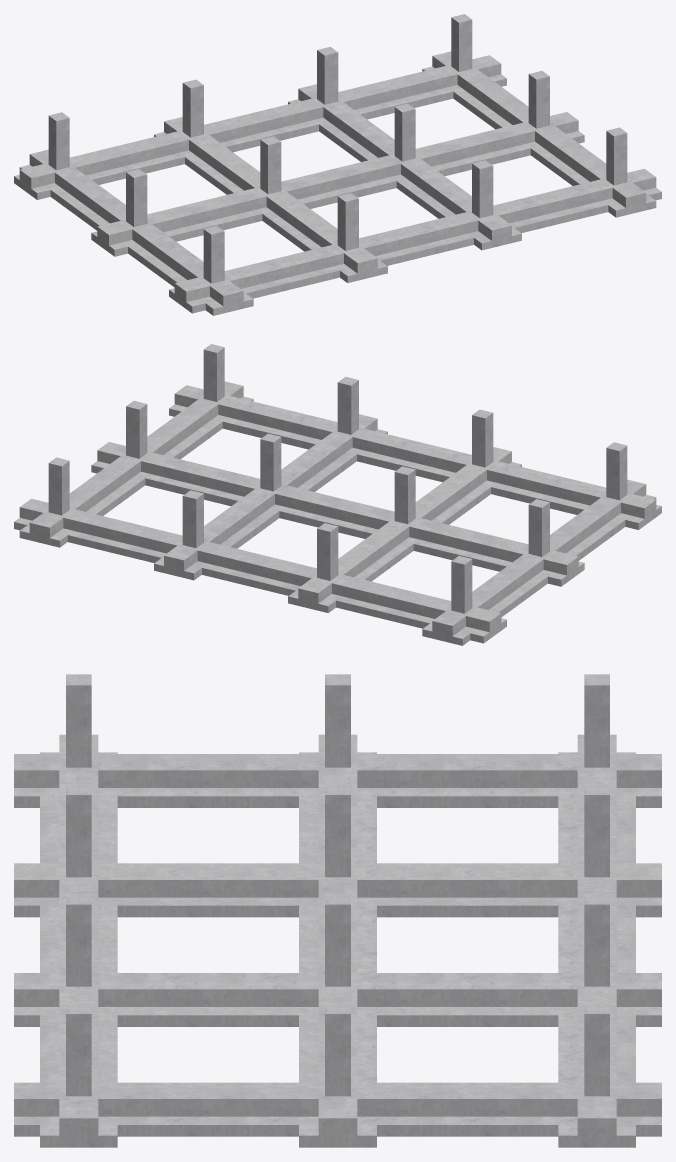
Rendered from column-cross.glb.
3 views of the same model, one above another, from view 1: azimuth 30°, elevation 25°; view 2: azimuth 150°, elevation 25°; view 3: azimuth 270°, elevation 25° (orthographic). The views are drawn at different scales.
Visible parts, largest first — view 1: 十字交叉条基, 柱; view 2: 十字交叉条基, 柱; view 3: 十字交叉条基, 柱.
Boxes of the visible parts, x1,y1,x2,y2 form: 十字交叉条基: [14, 51, 661, 315]; 柱: [48, 14, 627, 283]; 十字交叉条基: [14, 381, 661, 645]; 柱: [48, 344, 627, 613]; 十字交叉条基: [14, 734, 661, 1147]; 柱: [66, 674, 609, 1096].
Bounding box in the file's own units: 14 × 1.9 × 10.
2 materials, 2 textured.
